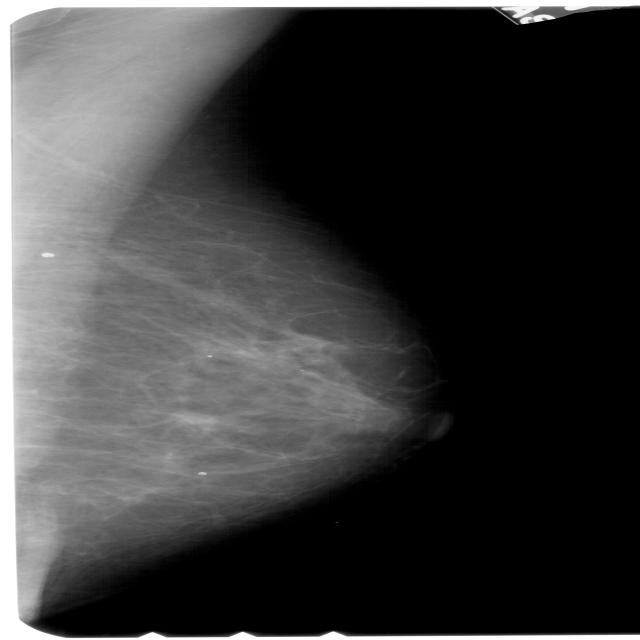normal: (0, 0, 448, 607)
